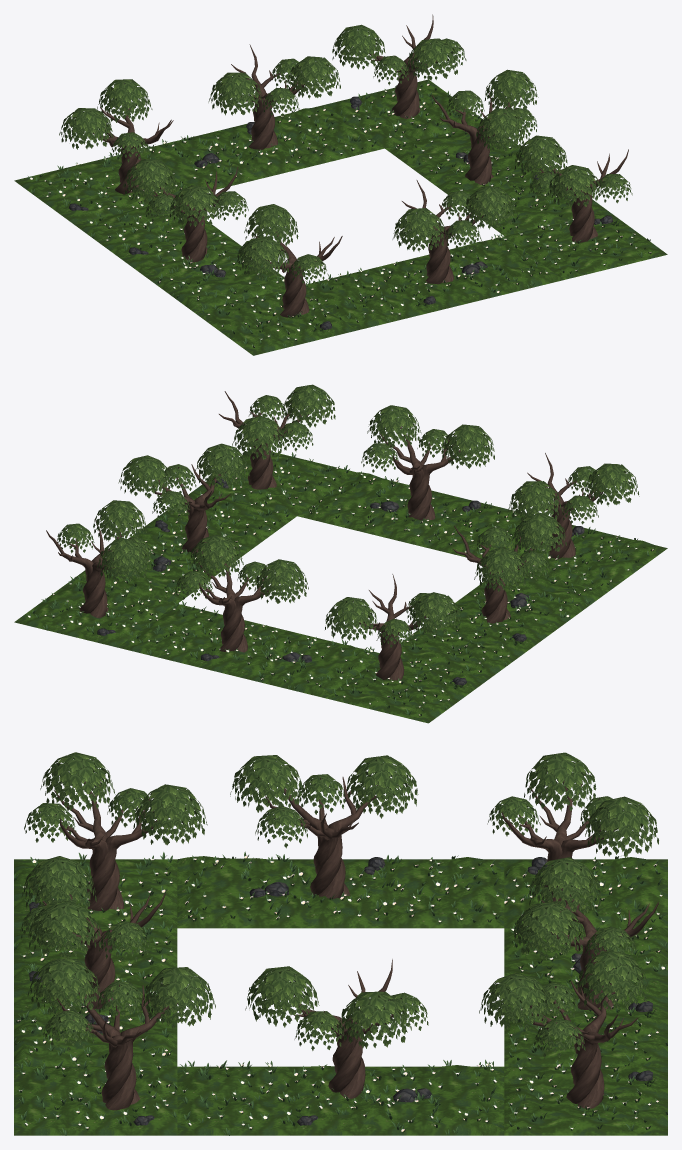
Rendered from border.glb.
3 views of the same model, one above another, from view 1: azimuth 30°, elevation 25°; view 2: azimuth 150°, elevation 25°; view 3: azimuth 270°, elevation 25° (orthographic). The views are drawn at different scales.
Parts seen in each view (by area): view 1: Border, SimpleTrees; view 2: Border, SimpleTrees; view 3: Border, SimpleTrees.
Part boxes in pixels (x1=…): Border: x1=14, y1=79, x2=667, y2=355; SimpleTrees: x1=59, y1=14, x2=632, y2=317; Border: x1=14, y1=449, x2=667, y2=723; SimpleTrees: x1=46, y1=384, x2=639, y2=680; Border: x1=14, y1=851, x2=667, y2=1135; SimpleTrees: x1=20, y1=752, x2=658, y2=1110.
Size of what is drawn, in the model's own units: 64 by 13.7 by 64.
6 materials, 6 textured.
